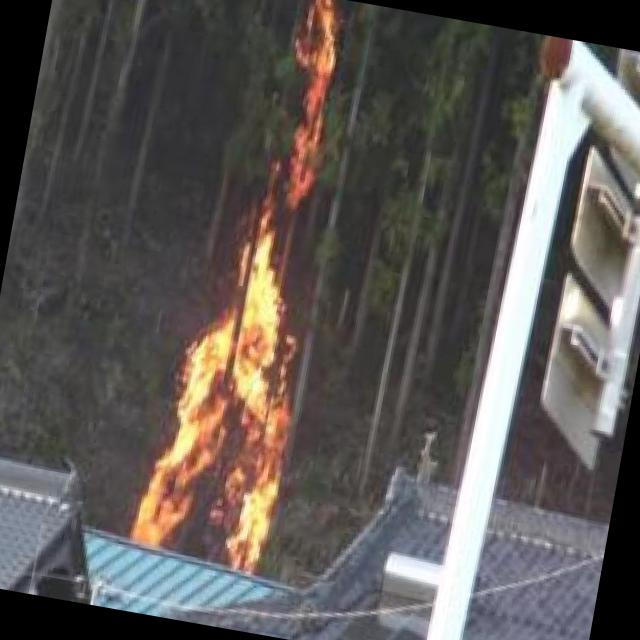Fire: (123, 0, 365, 566)
